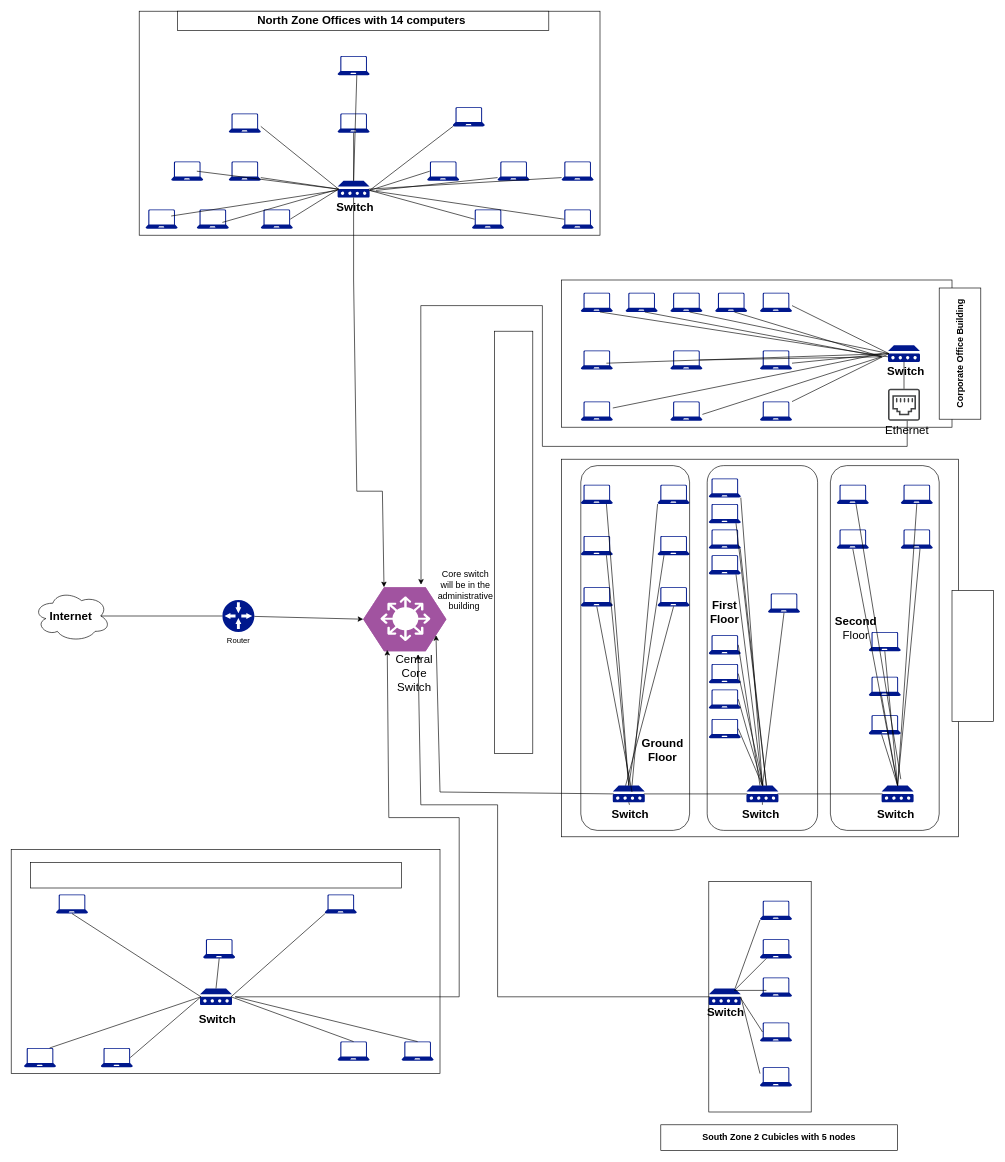
This 1005x1162 diagram has some shape labels left out. The centre of each missing label's shape, as x and y in pixels:
"Administration Building" belongs at (x=972, y=656).
"Central Zone" belongs at (x=513, y=542).
"South Zone 1 - Offices with 7 nodes" belongs at (x=216, y=875).
